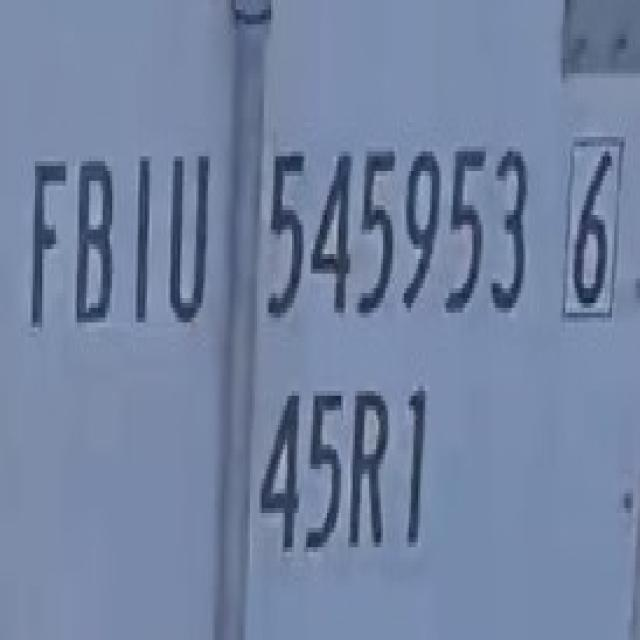dv: (551, 108, 635, 340)
owner: (18, 133, 216, 352)
serial: (261, 122, 535, 342)
size: (257, 349, 452, 574)
